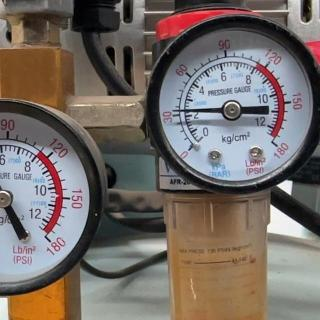gauge: (145, 8, 319, 196), (1, 92, 107, 304), (180, 135, 208, 161), (221, 99, 243, 121), (266, 134, 286, 155), (0, 188, 14, 208), (169, 108, 179, 116)
